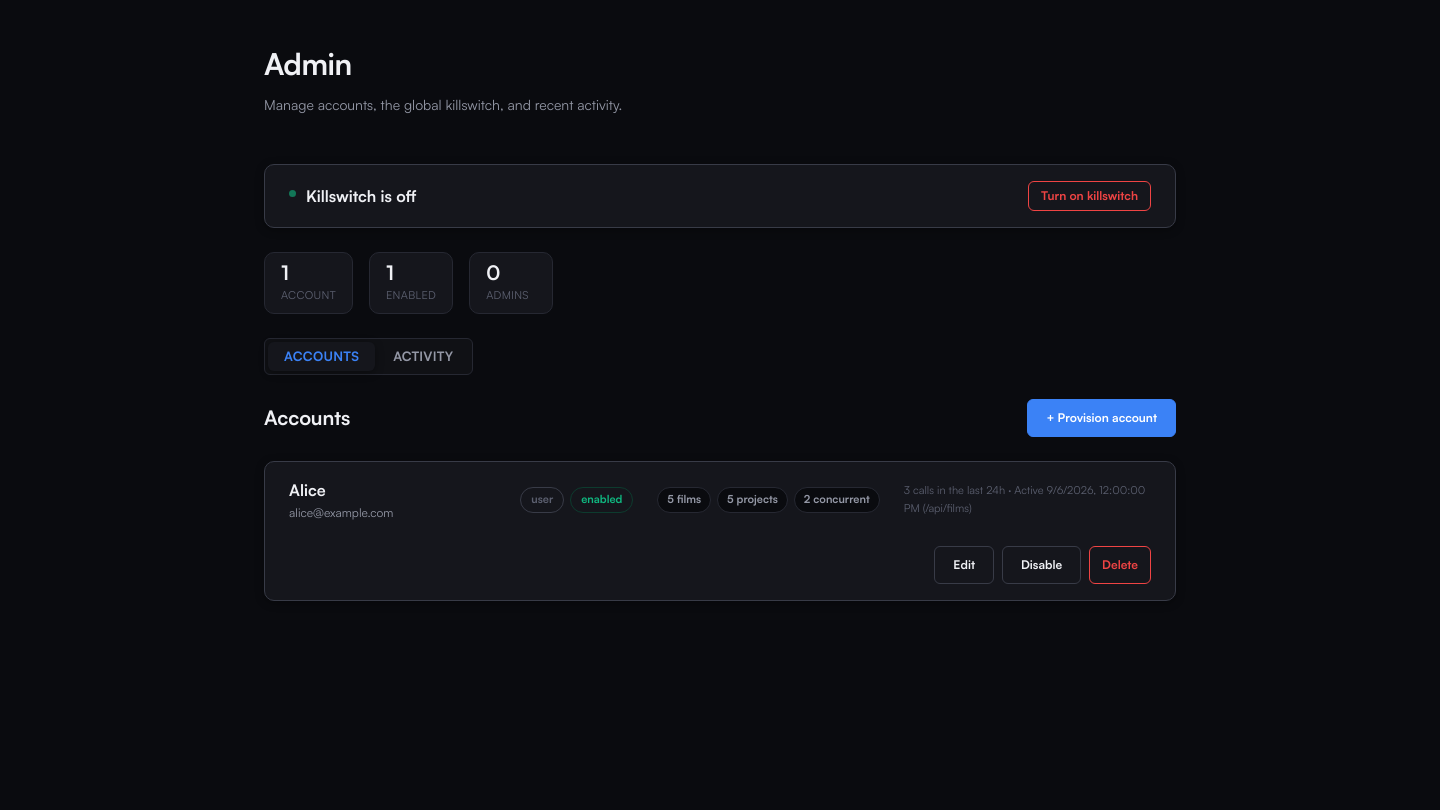
Test: AdminView › opens the edit modal pre-filled with the account, and saves changes
Expected: the text "Alice" is shown, [289,480,326,500]
Click the button "Edit" at {"x": 964, "y": 565}, box [934,546,994,584]
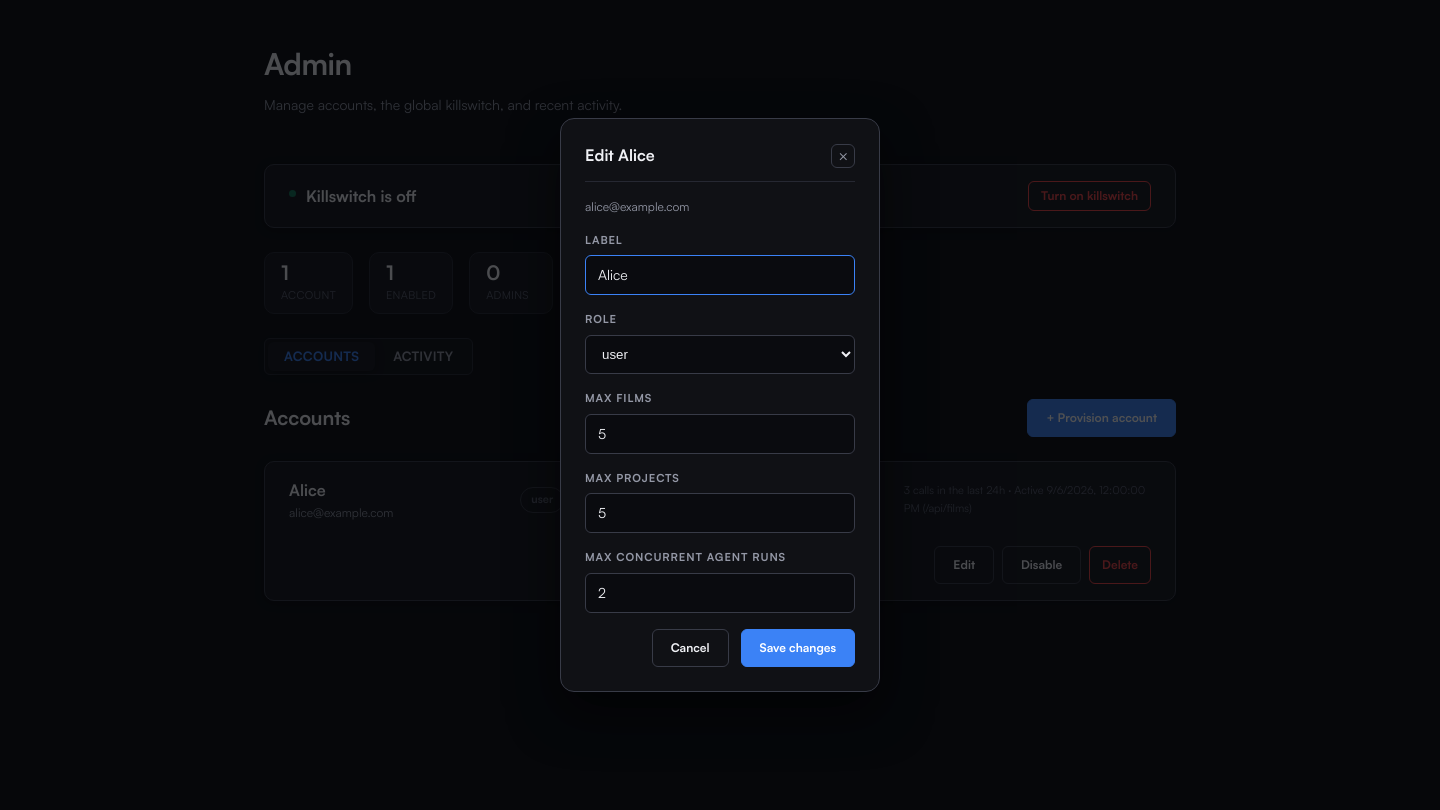
Now the field labelled "Label" holds "Alice"
Now the number field labelled "Max films" holds "5", box [585,414,855,454]
Replace the text in the field labelled "Label" with "Alice B." at {"x": 720, "y": 275}, box [585,255,855,295]
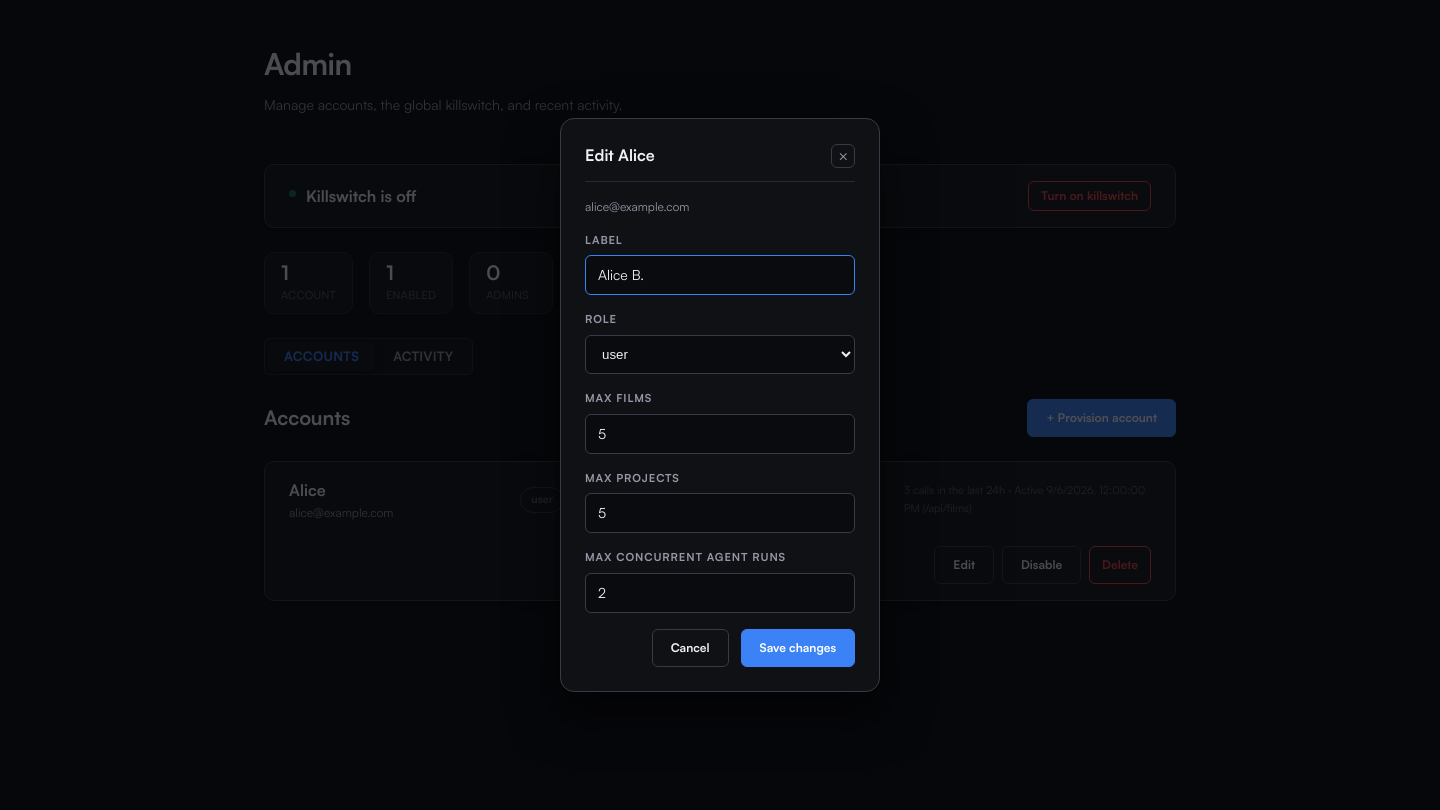
Replace the text in the number field labelled "Max films" with "9" at {"x": 720, "y": 434}, box [585,414,855,454]
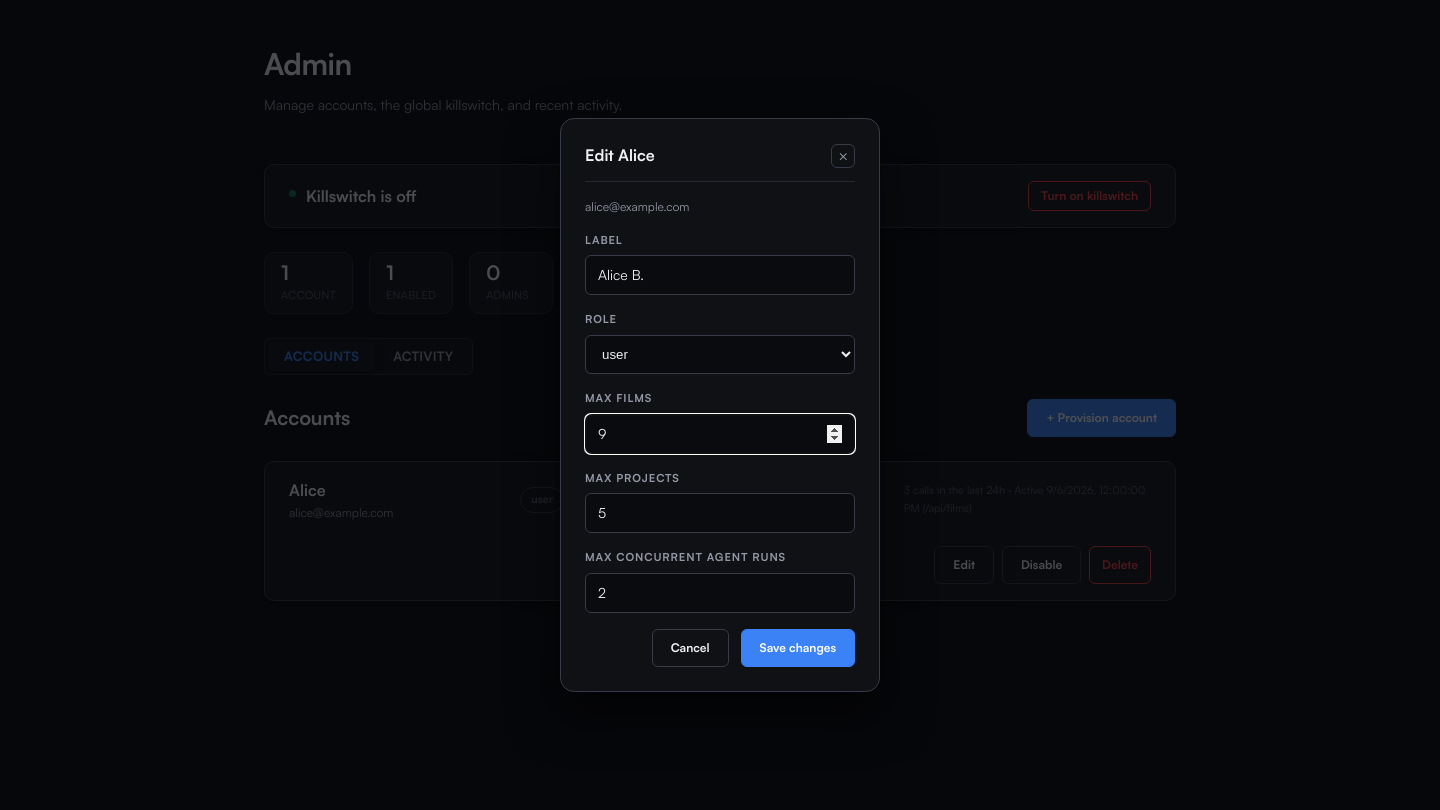
Click the button "Save changes" at {"x": 798, "y": 648}, box [741,629,855,667]
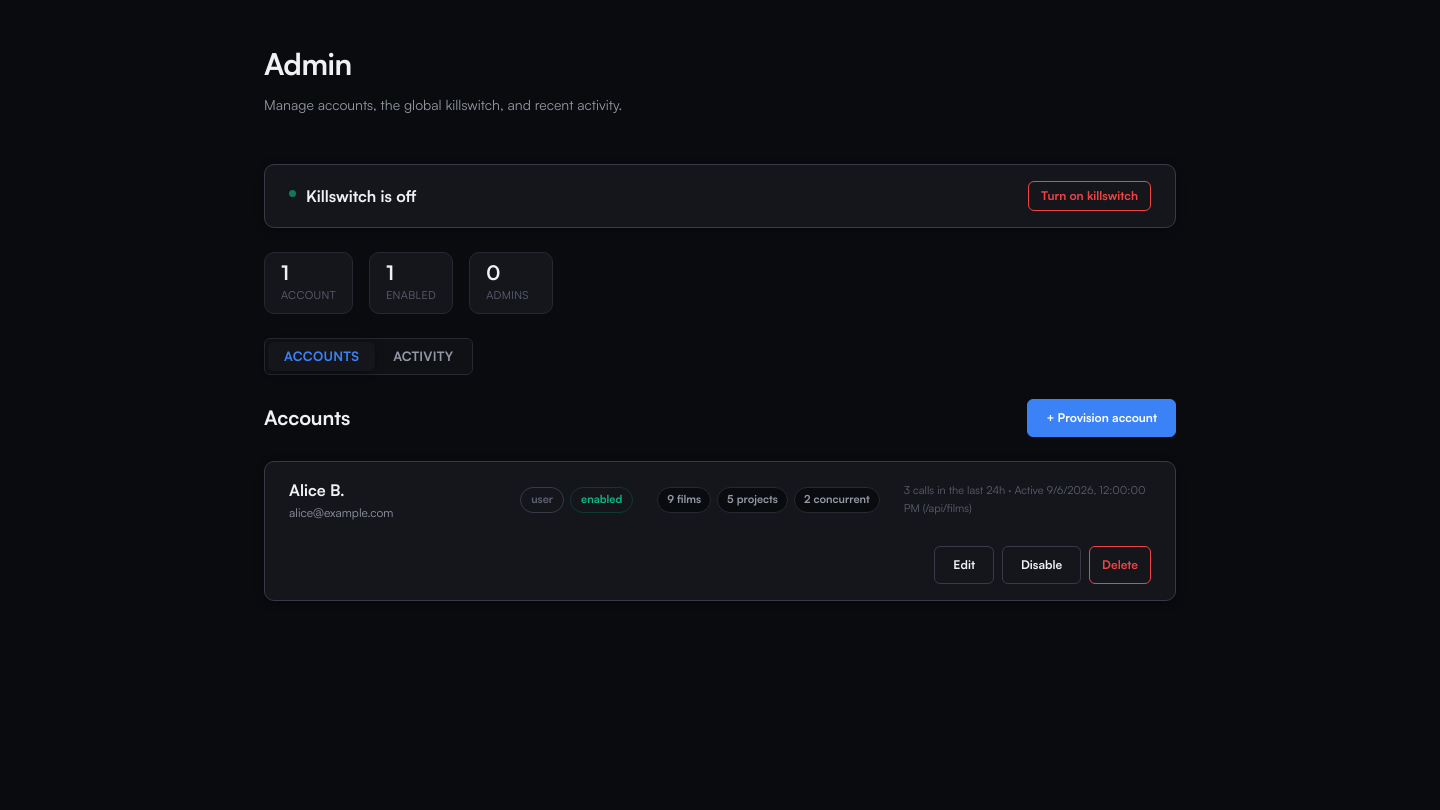
Now the text "Alice B." is shown, box [289,480,345,500]
